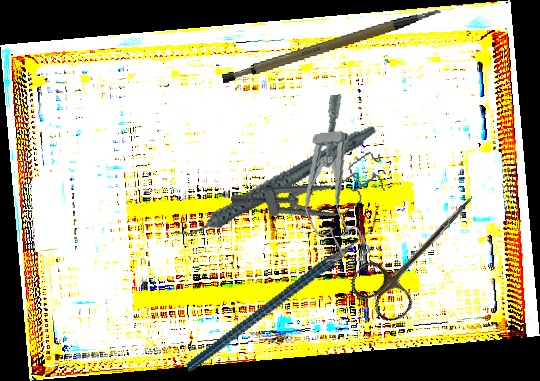Chopper: (158, 208, 406, 372)
Handpiece: (161, 123, 390, 241)
Iris Scissors: (344, 172, 495, 329)
Scalpel Handle: (217, 8, 447, 87)
Speculum: (227, 149, 392, 239), (293, 92, 372, 268)
